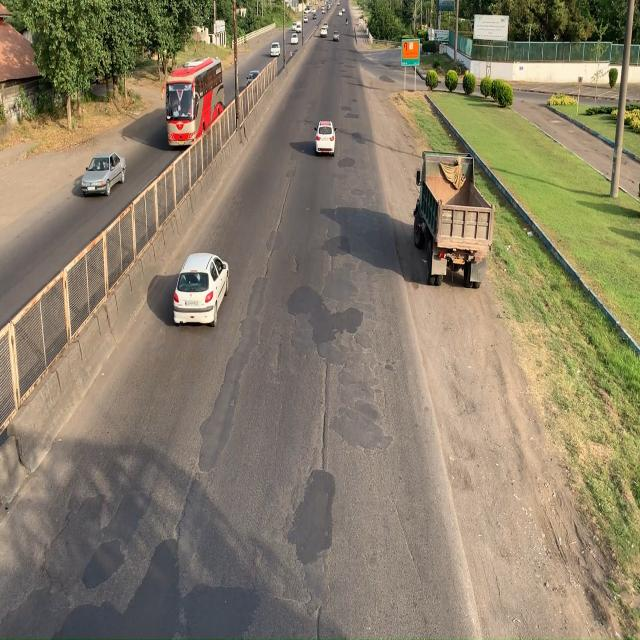Bus: (165, 61, 222, 147)
Truck: (414, 152, 498, 292)
cars: (173, 254, 230, 326), (82, 154, 124, 193)
